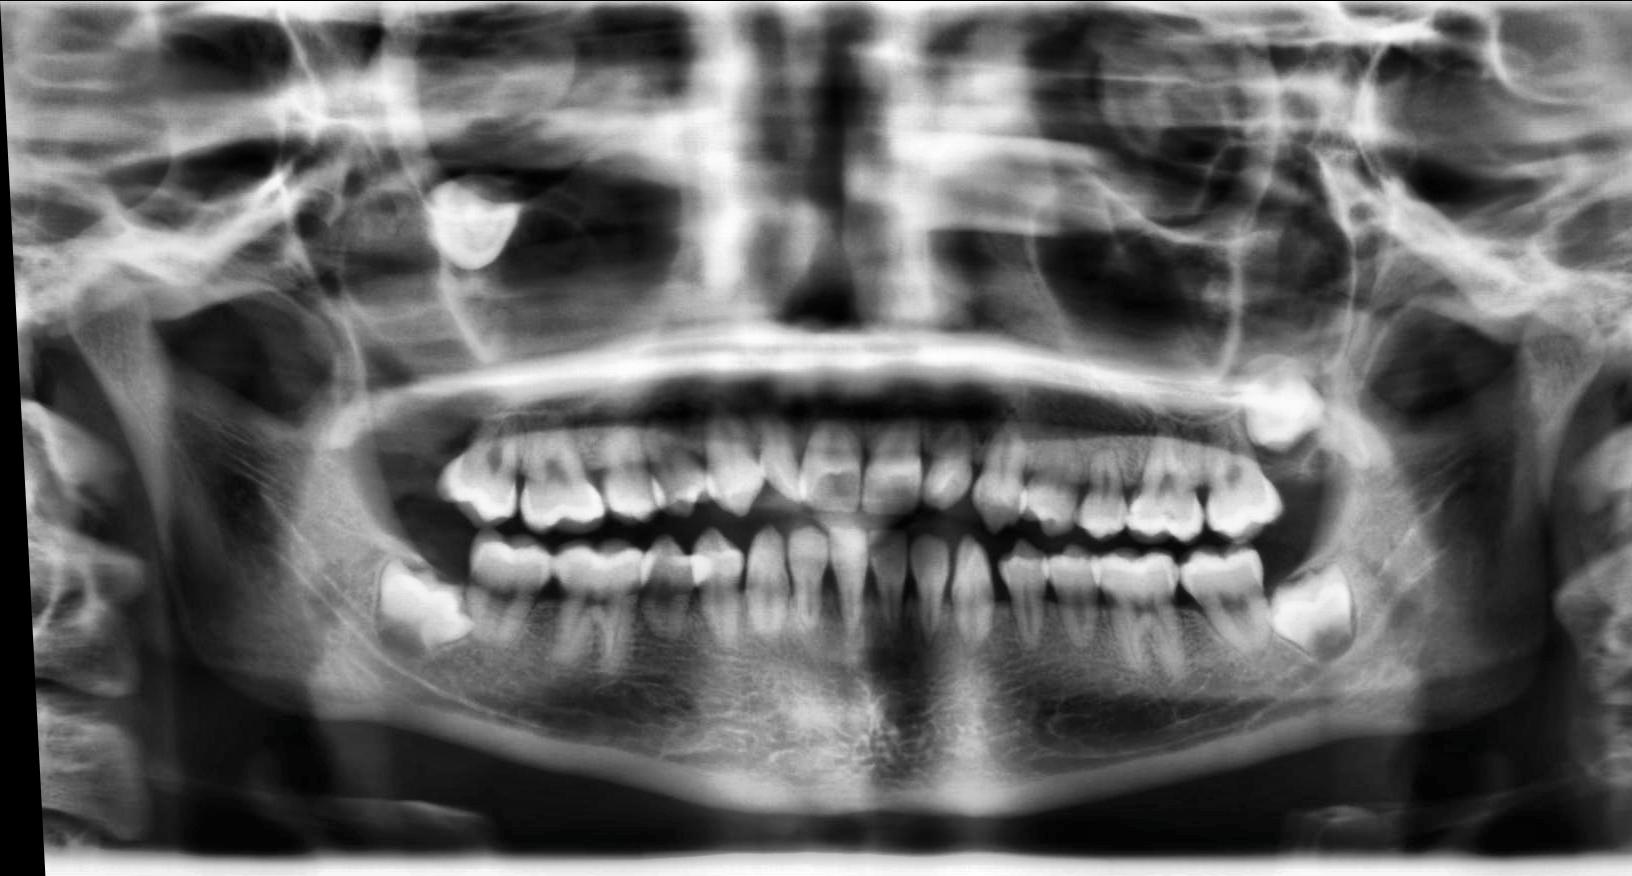okc: (330, 156, 622, 420)
